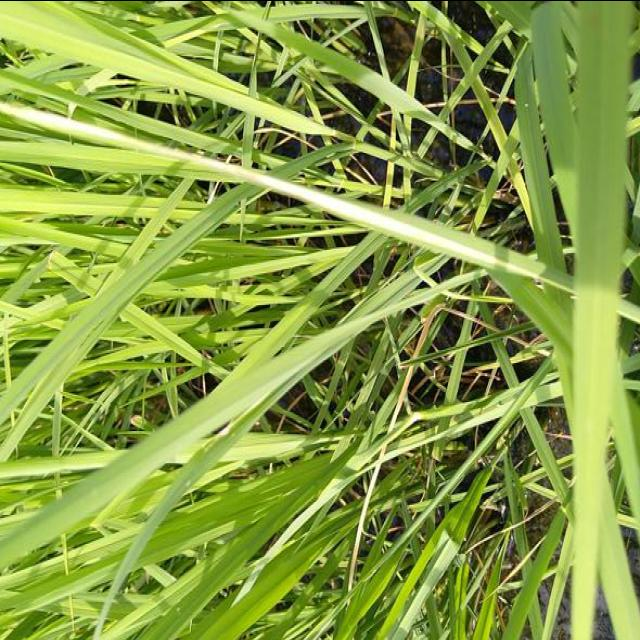Leaf Blight: (0, 93, 567, 287)
